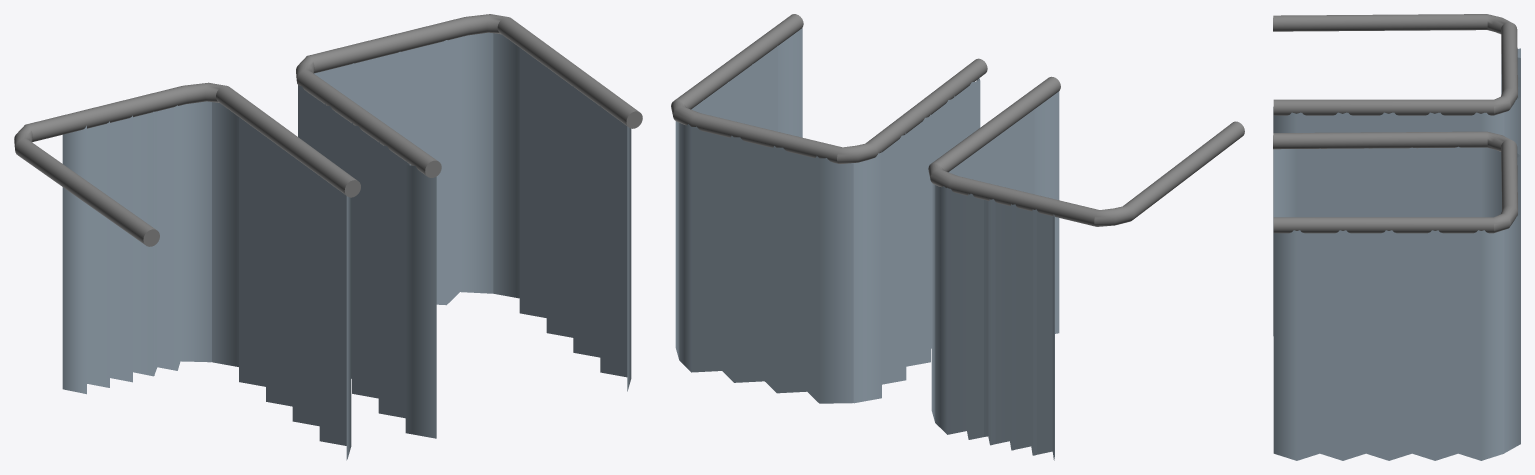
Rendered from Curtains.fbx.
The picture shows the model from 3 angles, left to right: view 1: azimuth 30°, elevation 25°; view 2: azimuth 150°, elevation 25°; view 3: azimuth 270°, elevation 25°; orthographic projection. The views are drawn at different scales.
Parts seen in each view (by area): view 1: Curtain_2; view 2: Curtain_2; view 3: Curtain_2.
Part boxes in pixels (x1,y1,x2,y2): Curtain_2: (14,14,642,460); Curtain_2: (671,14,1244,460); Curtain_2: (1273,14,1520,460).
Size of the model in its own units: 5.41 by 2.86 by 2.69.
1 material, 1 textured.
